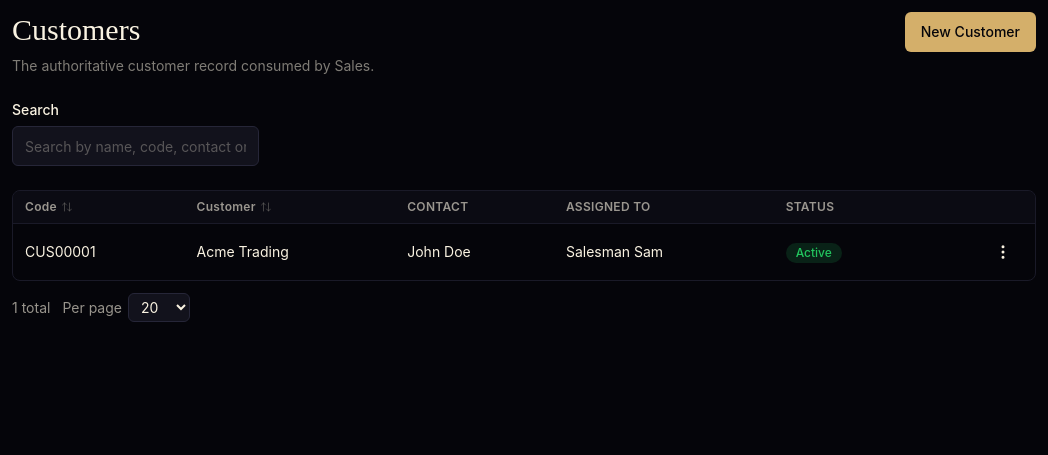
it: CustomersPage › an admin sees Edit, Assign, and Deactivate
Expected: the text "Acme Trading" is shown, [185, 224, 395, 280]
Click the button named "Actions for" at (1003, 252), box [983, 232, 1023, 272]
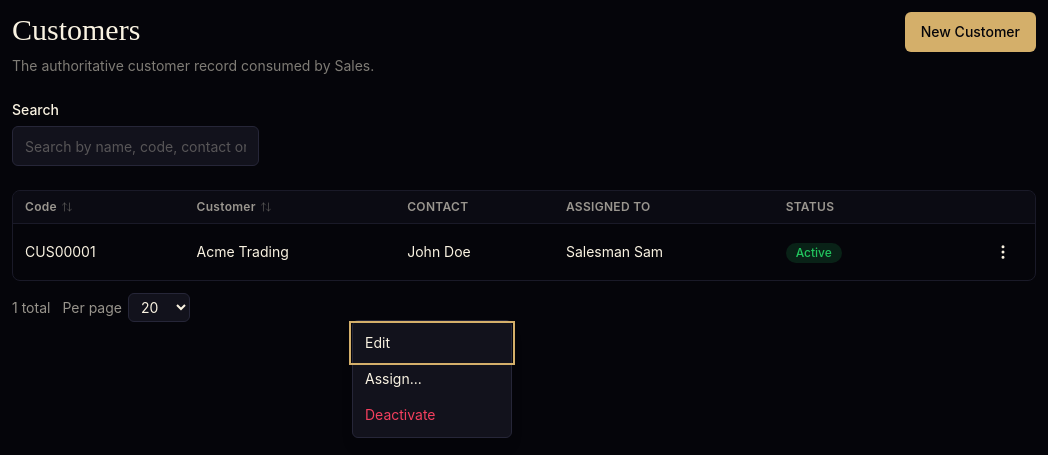
Expected: the menu item "Edit" is shown, [353, 325, 511, 361]
Expected: the menu item "Assign..." is shown, [353, 361, 511, 397]
Expected: the menu item "Deactivate" is shown, [353, 397, 511, 433]
